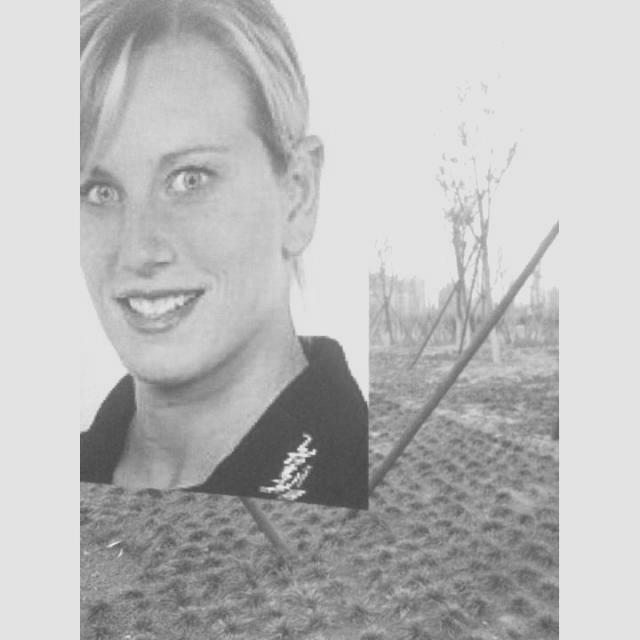fake: (82, 0, 378, 517)
